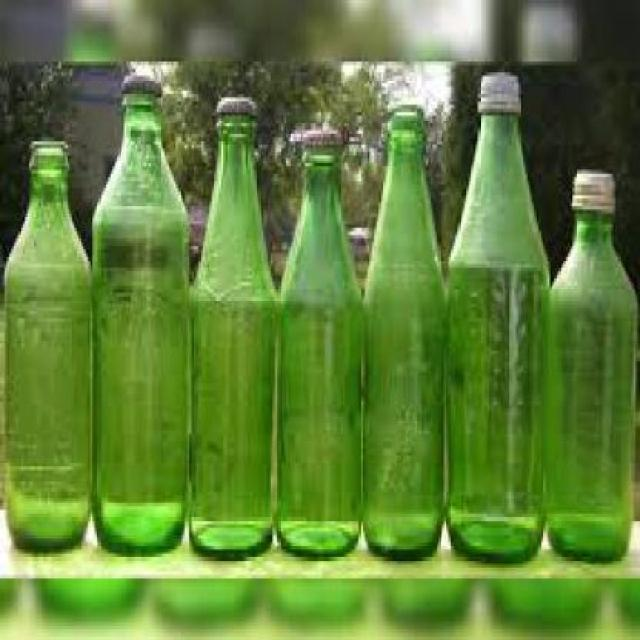kaca: (446, 112, 548, 560), (91, 91, 189, 557), (360, 115, 446, 557), (190, 112, 272, 552), (275, 144, 360, 554), (3, 145, 88, 546), (548, 210, 635, 562)
